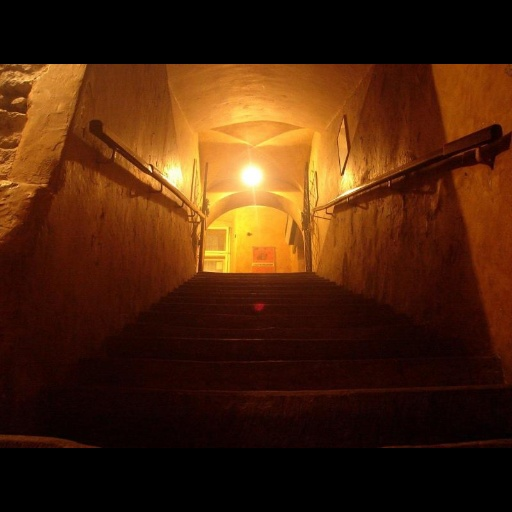Stairs: (42, 273, 512, 447)
